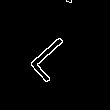L_NE: (26, 26, 84, 84)
